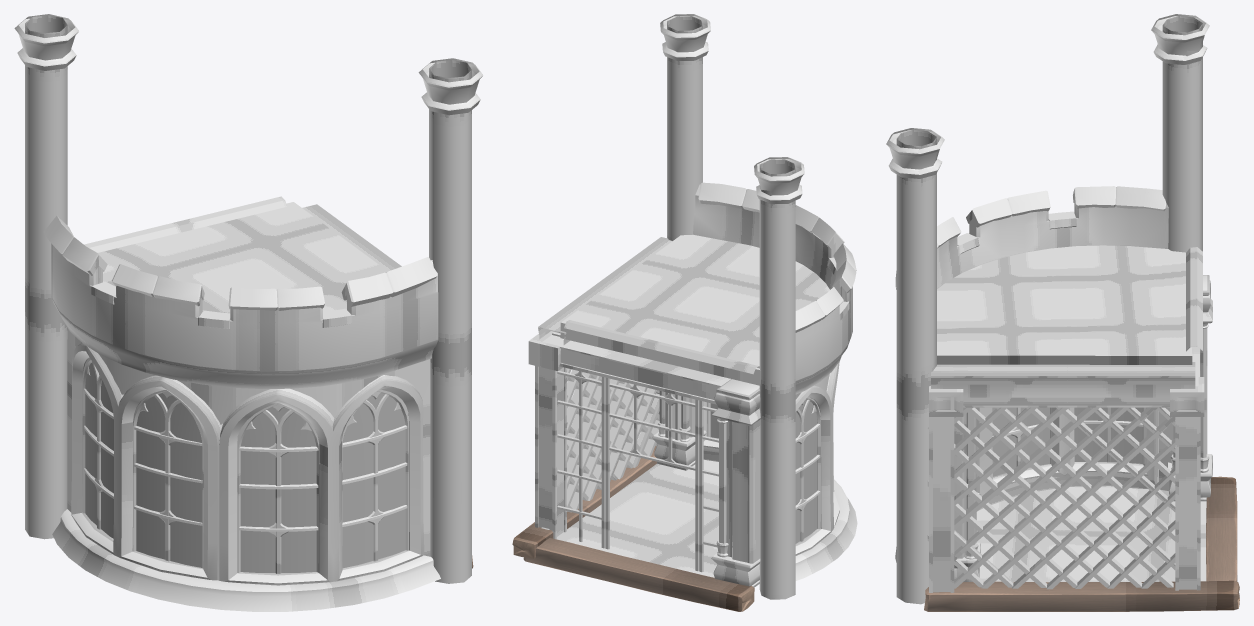
File: SM_GeneralS_Winter_Garden_Balcony_GlassWindow.fbx
The picture shows the model from 3 angles, left to right: view 1: azimuth 30°, elevation 25°; view 2: azimuth 150°, elevation 25°; view 3: azimuth 270°, elevation 25°; orthographic projection. The views are drawn at different scales.
Parts seen in each view (by area): view 1: SM_GeneralS_Winter_Garden_Balcony_GlassWindow_LOD0; view 2: SM_GeneralS_Winter_Garden_Balcony_GlassWindow_LOD0; view 3: SM_GeneralS_Winter_Garden_Balcony_GlassWindow_LOD0.
Boxes of the visible parts, bbox=[...] form: SM_GeneralS_Winter_Garden_Balcony_GlassWindow_LOD0: bbox=[14, 14, 483, 611]; SM_GeneralS_Winter_Garden_Balcony_GlassWindow_LOD0: bbox=[512, 14, 857, 611]; SM_GeneralS_Winter_Garden_Balcony_GlassWindow_LOD0: bbox=[886, 14, 1239, 611].
Size of the model in its own units: 605 by 651 by 946.
